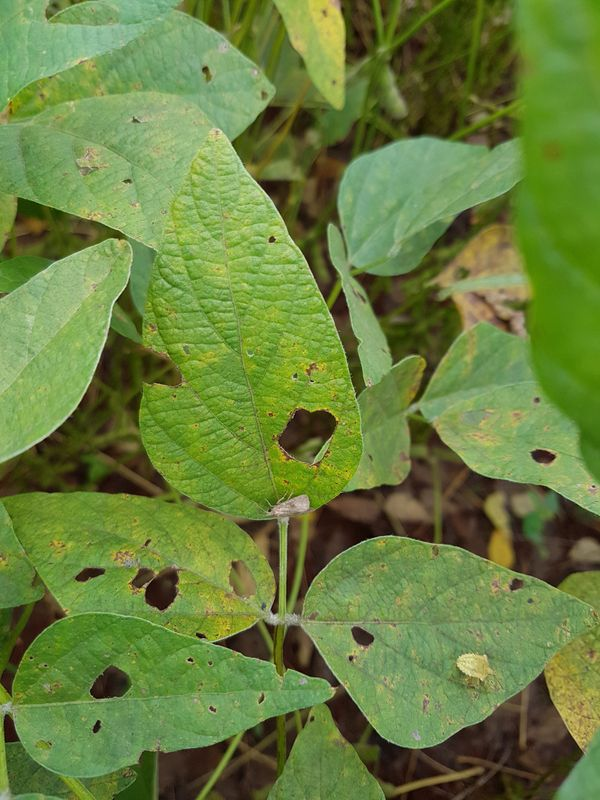Euschistus_heros_ninfa: (451, 646, 500, 690)
